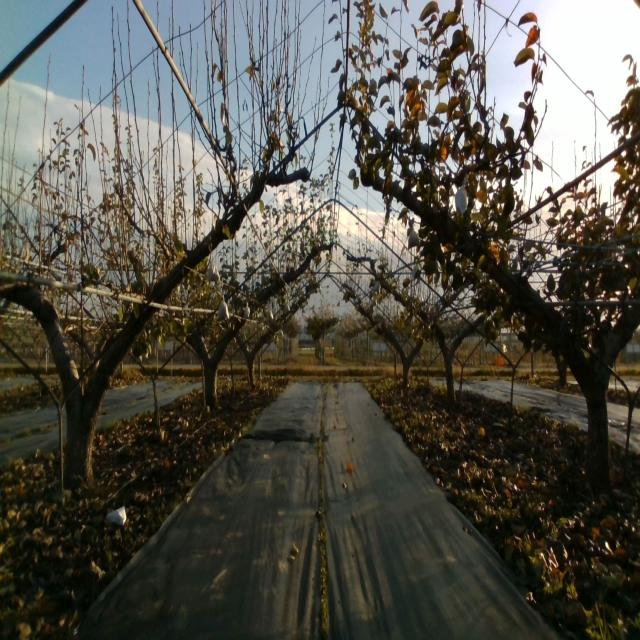pearbags: (454, 177, 468, 213), (207, 257, 220, 281), (217, 294, 229, 320), (408, 225, 420, 249)
